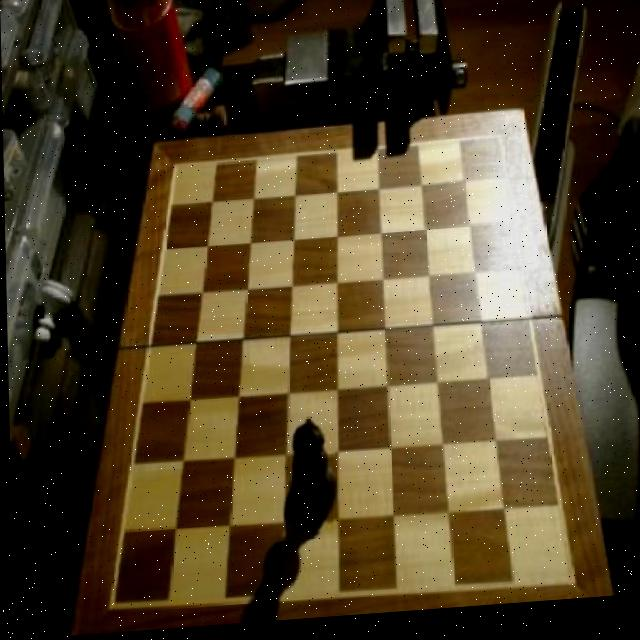black-bishop: (286, 417, 335, 539)
